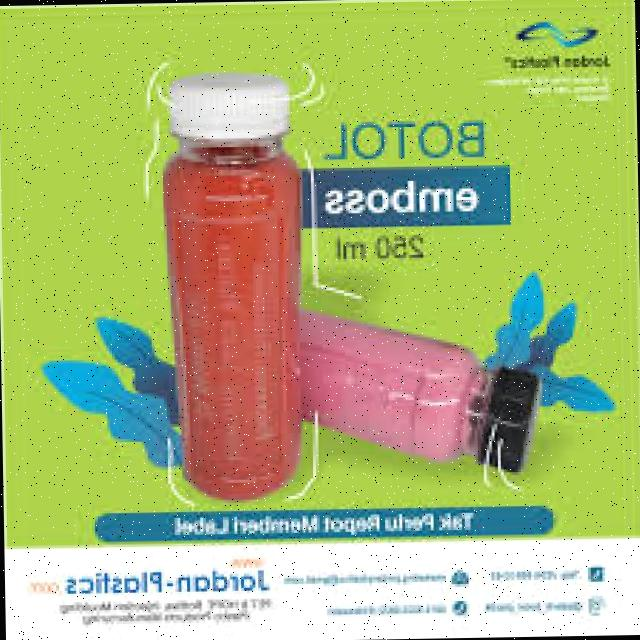bottle: (120, 58, 351, 509)
